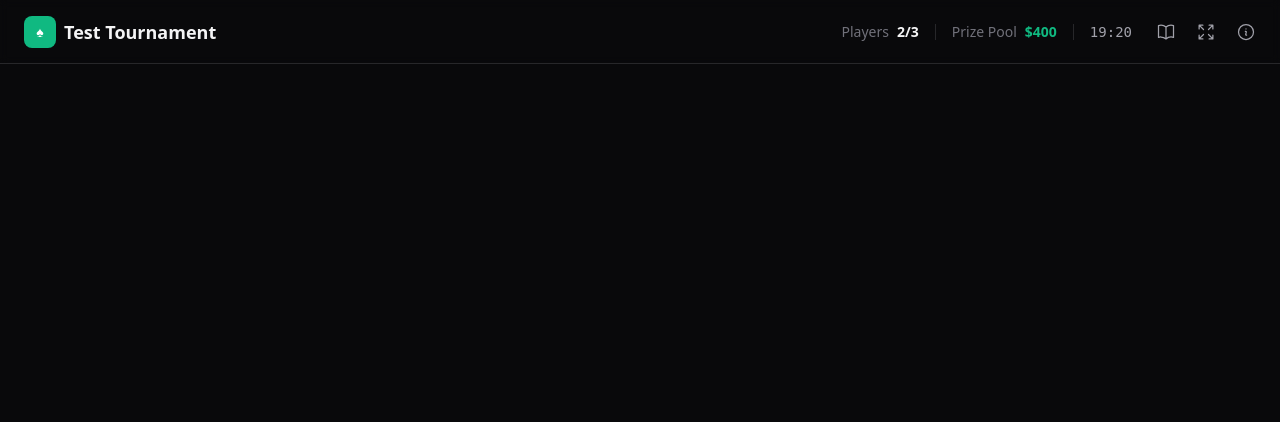
Test case: Header Component › opens keyboard shortcuts dropdown when clicked
Click the button titled "Keyboard Shortcuts".
click(1166, 32)  # box [1148,14,1184,50]
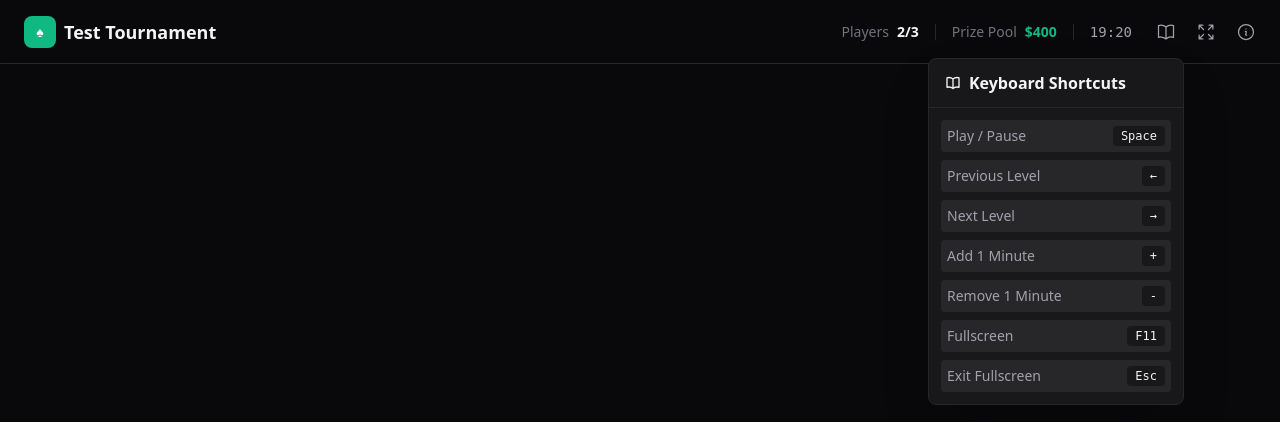
Expected: the text "Play / Pause" is shown, [947,126,1026,146]
Expected: the text "Space" is shown, [1113,126,1165,146]
